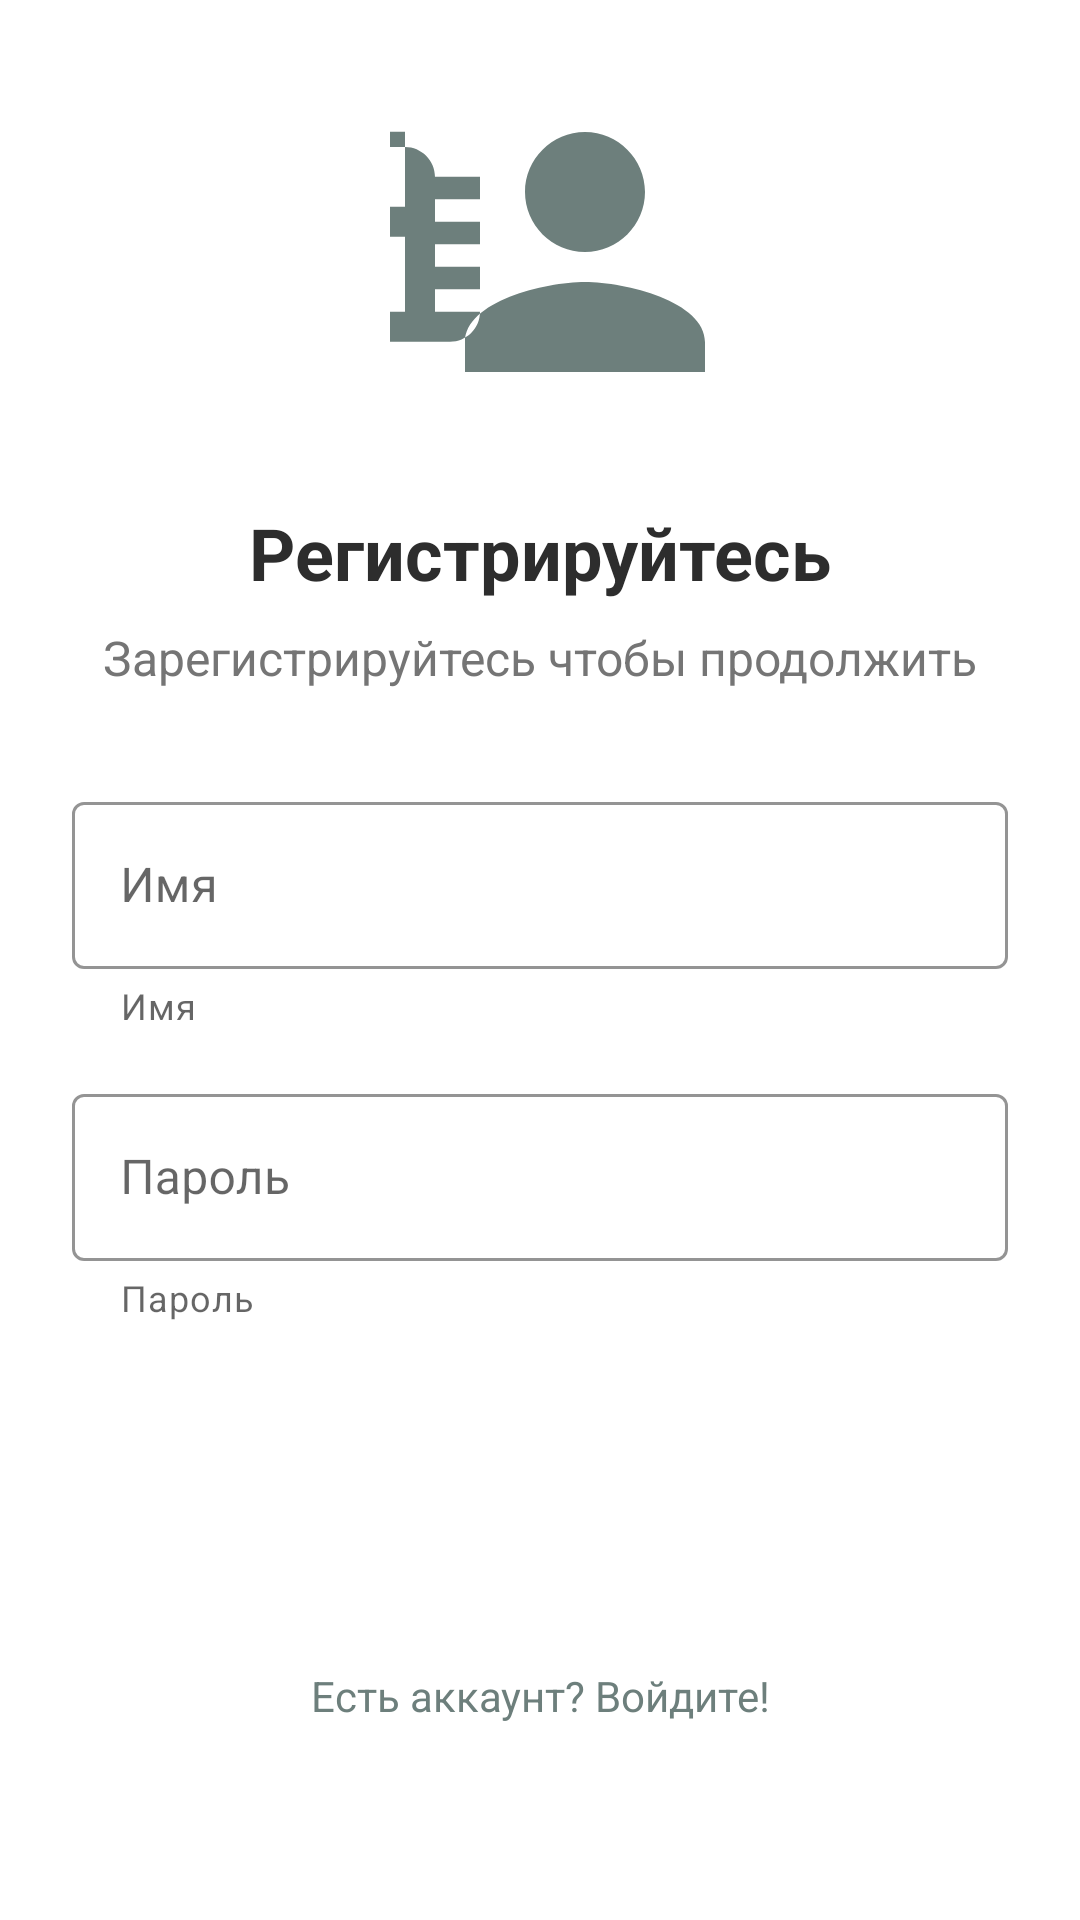

Icons on this 1080×1920 Android screen, each with the point to tap as [x,y]:
Иконка регистрации: [547,251]
